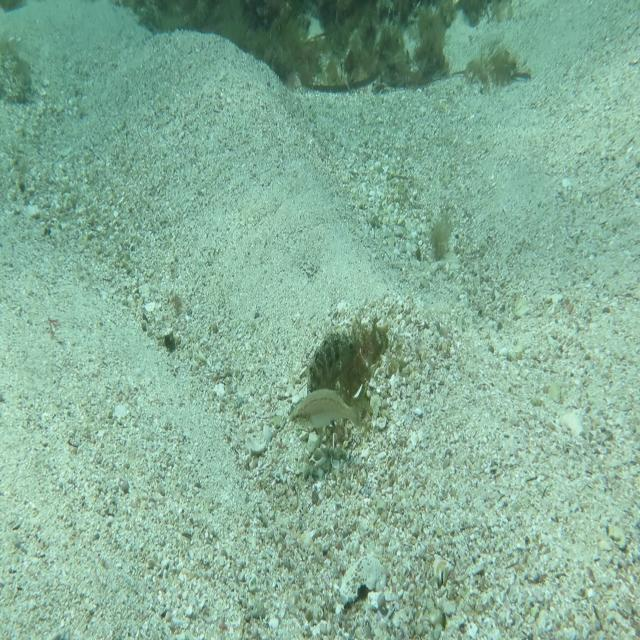BEND: (304, 324, 364, 444)
female: (289, 387, 370, 436)
nest: (290, 309, 390, 447)
vegetation: (133, 0, 490, 33), (235, 34, 440, 86), (427, 211, 453, 266)
